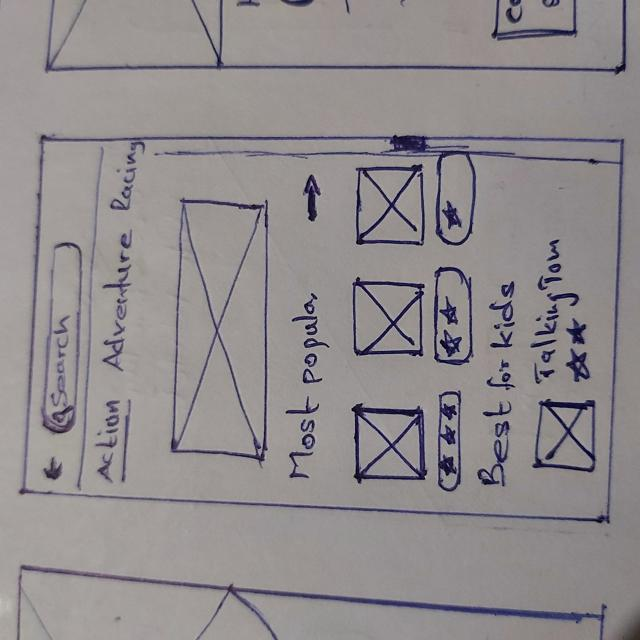AppBar: (24, 133, 88, 492)
BackButton: (41, 454, 67, 483)
Chips: (431, 262, 475, 367), (434, 153, 479, 247), (435, 389, 463, 493)
EditText: (42, 242, 85, 434)
Icon: (300, 169, 322, 226)
Image: (170, 195, 272, 461), (349, 278, 428, 359), (350, 403, 428, 485), (354, 163, 427, 249), (532, 400, 599, 477)
MainLayout: (16, 130, 627, 526)
RatingBar: (565, 318, 593, 392), (444, 160, 468, 236), (441, 282, 463, 358), (444, 397, 459, 482)
ScrollBar: (145, 132, 625, 170)
ScrollView: (147, 157, 608, 517)
Tab: (90, 132, 146, 501)
TabItem: (94, 230, 146, 375), (87, 383, 147, 493), (97, 141, 145, 223)
TextView: (290, 296, 323, 485), (488, 279, 513, 488), (534, 233, 563, 389)
